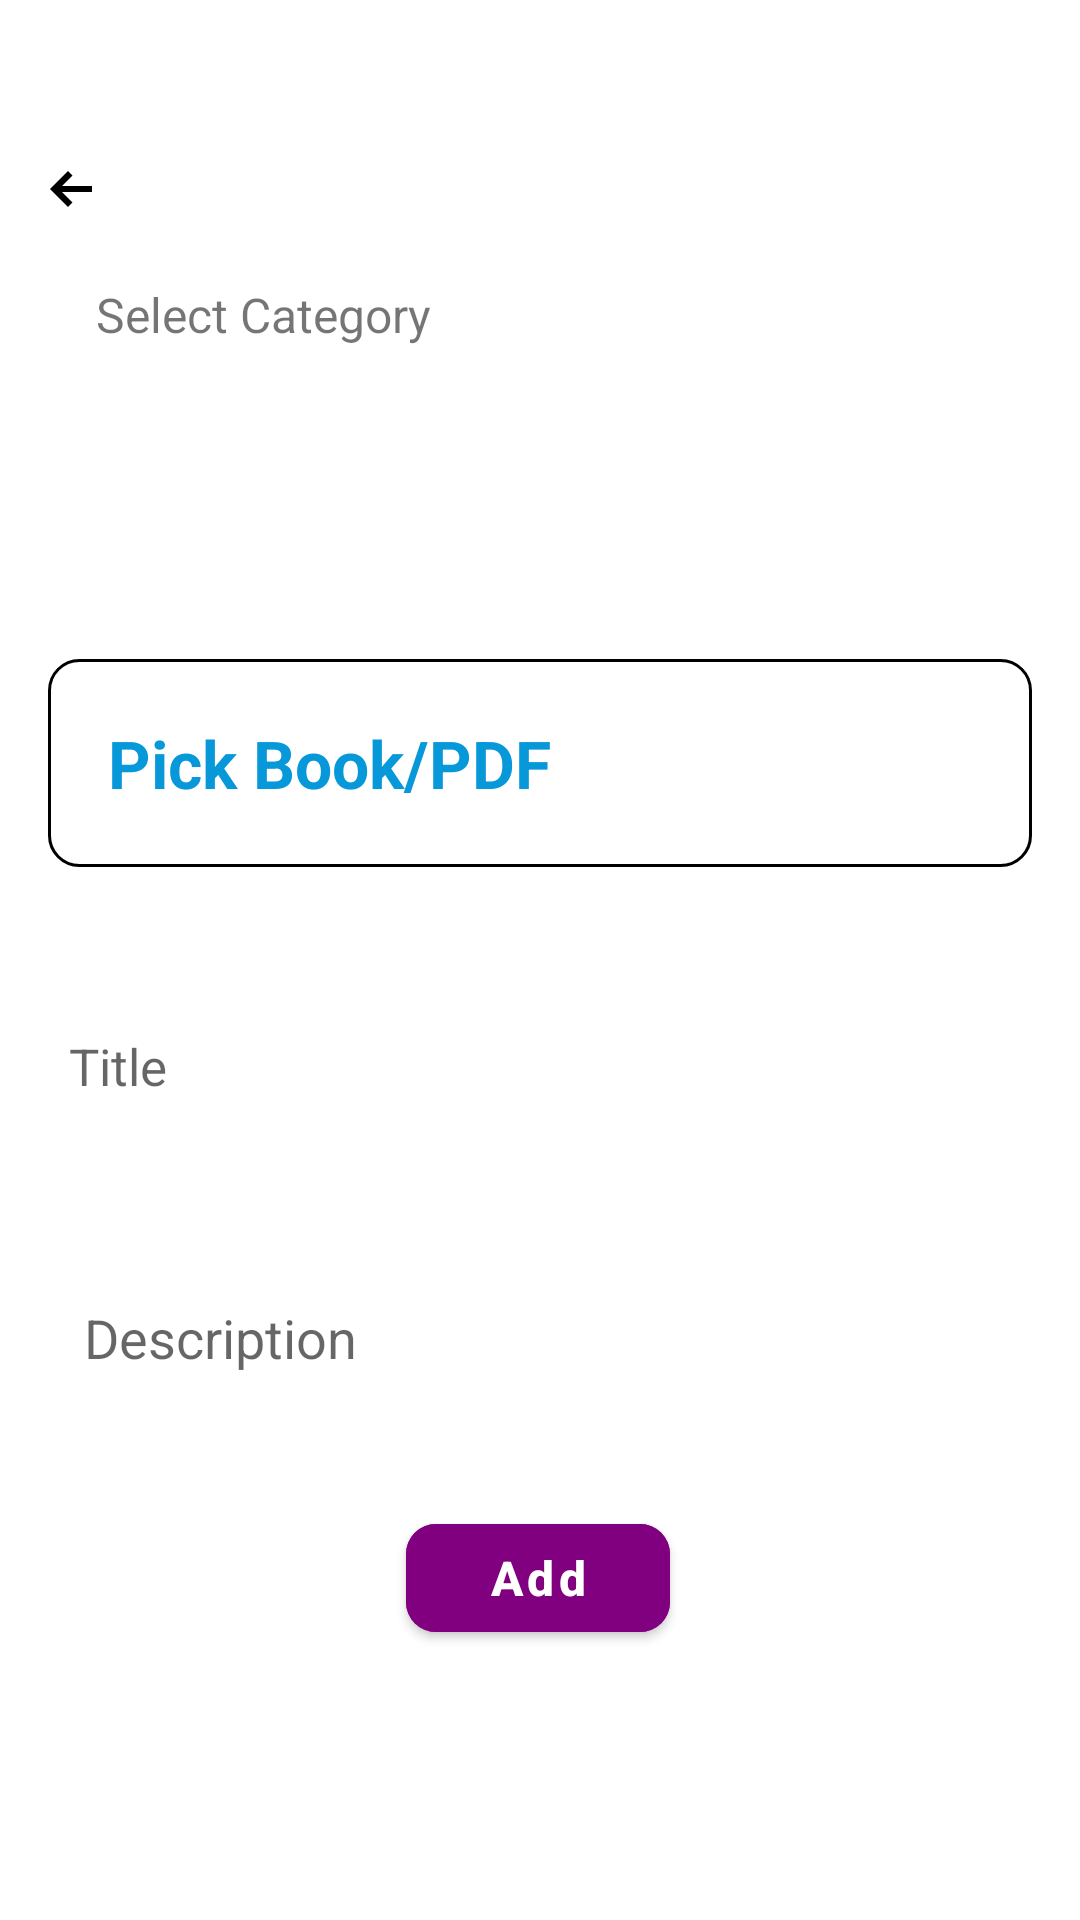

Named icons in this screenshot (1080x1920) and their centers, (x=x, y=y):
left arrow: (x=71, y=189)
